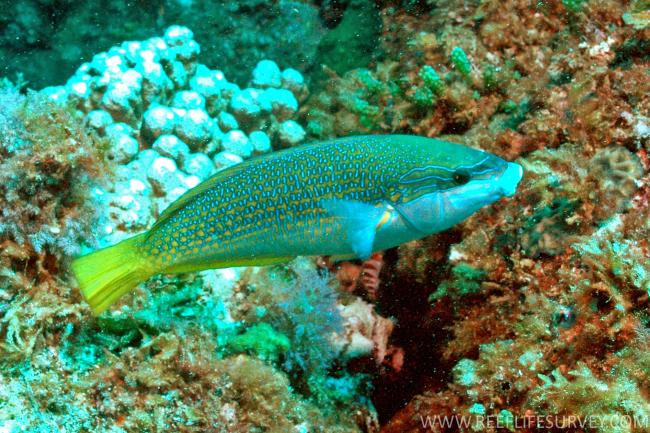fish: (72, 134, 524, 315)
